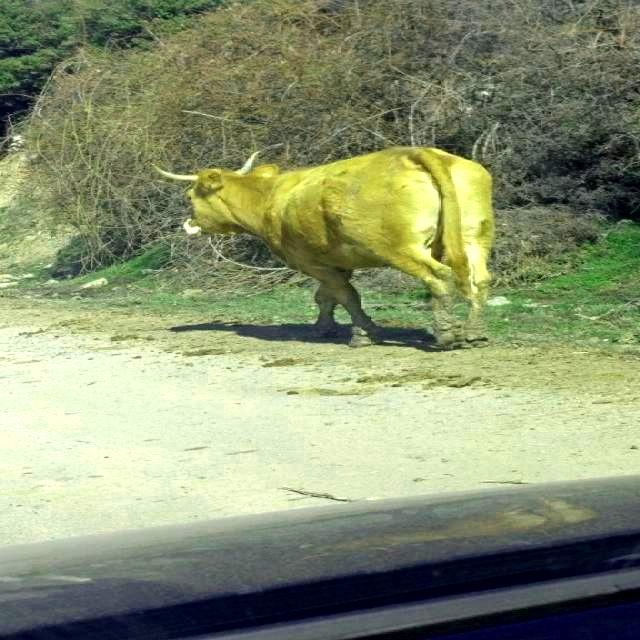COW: (159, 148, 494, 345)
